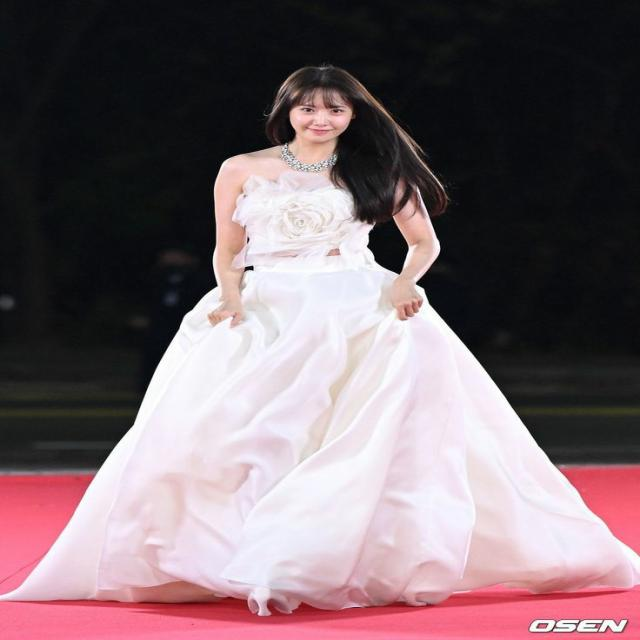female-dress: (59, 158, 637, 614)
